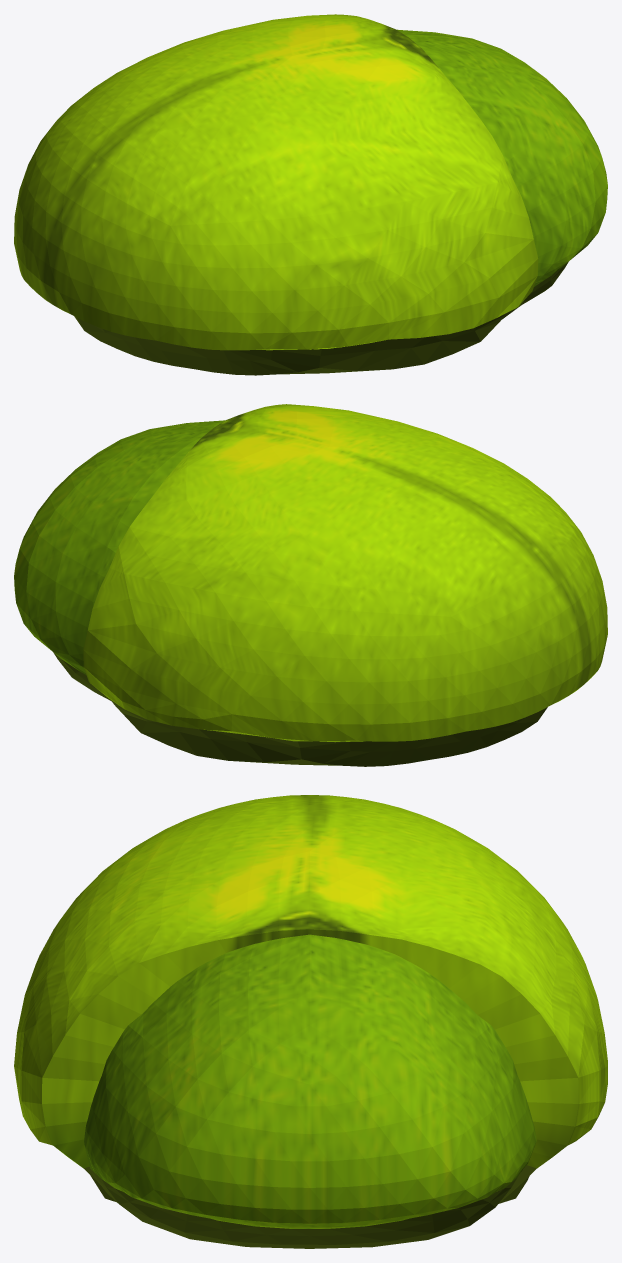
The model's file is mother1.obj.
3 renders of one model, top to bottom at view 1: azimuth 30°, elevation 25°; view 2: azimuth 150°, elevation 25°; view 3: azimuth 270°, elevation 25°, orthographic. The views are drawn at different scales.
Parts seen in each view (by area): view 1: Rear_ColobotMesh_.004, Front_ColobotMesh_.002; view 2: Rear_ColobotMesh_.004, Front_ColobotMesh_.002; view 3: Front_ColobotMesh_.002, Rear_ColobotMesh_.004.
Part boxes in pixels (box(x1,y1,x2,y2)): Rear_ColobotMesh_.004: box(14, 14, 538, 375); Front_ColobotMesh_.002: box(397, 29, 607, 319); Rear_ColobotMesh_.004: box(83, 404, 607, 766); Front_ColobotMesh_.002: box(14, 420, 224, 700); Front_ColobotMesh_.002: box(84, 934, 536, 1248); Rear_ColobotMesh_.004: box(14, 795, 607, 1203).
Bounding box in the file's own units: 38.65 × 18.73 × 31.99.
